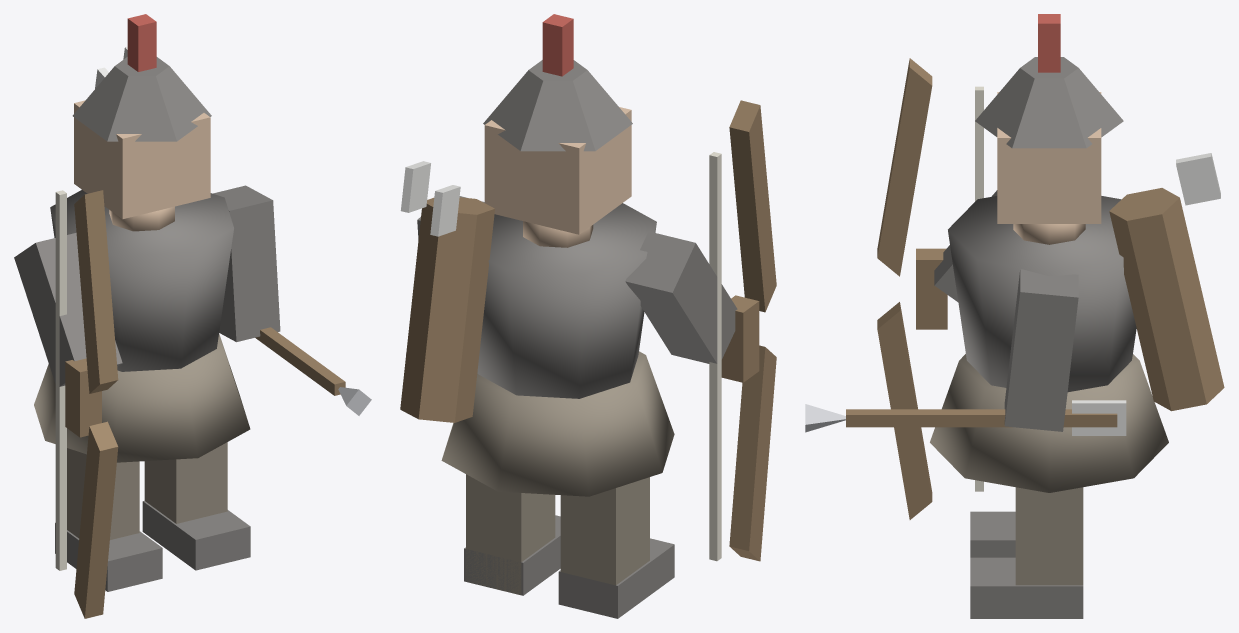
File: troop-archer.glb
3 views of the same model, side by side, from view 1: azimuth 30°, elevation 25°; view 2: azimuth 150°, elevation 25°; view 3: azimuth 270°, elevation 25° (orthographic). The views are drawn at different scales.
Parts seen in each view (by area): view 1: body, skirt, head, helmet, arm_r, bow_limb_u, bow_limb_d, arm_l, leg_r, foot_r, bow_string, leg_l (+6 smaller); view 2: body, skirt, quiver, head, arm_l, helmet, leg_l, leg_r, bow_limb_u, bow_limb_d, bow_string, foot_l (+4 smaller); view 3: body, quiver, skirt, arm_r, helmet, head, leg_r, bow_limb_u, foot_r, bow_limb_d, arrow, bow_grip (+7 smaller).
Part boxes in pixels (left/top/right/bottom): body: left=50, top=190, right=233, bottom=371; skirt: left=34, top=333, right=250, bottom=462; head: left=74, top=100, right=210, bottom=219; helmet: left=72, top=57, right=211, bottom=141; arm_r: left=213, top=185, right=280, bottom=342; bow_limb_u: left=74, top=190, right=118, bottom=393; bow_limb_d: left=74, top=421, right=118, bottom=618; arm_l: left=14, top=233, right=122, bottom=386; leg_r: left=144, top=442, right=227, bottom=523; foot_r: left=142, top=501, right=250, bottom=570; bow_string: left=55, top=190, right=66, bottom=570; leg_l: left=67, top=448, right=139, bottom=539; body: left=477, top=203, right=656, bottom=398; skirt: left=441, top=351, right=674, bottom=496; quiver: left=400, top=161, right=494, bottom=422; head: left=484, top=107, right=631, bottom=234; arm_l: left=625, top=231, right=737, bottom=363; helmet: left=483, top=60, right=632, bottom=151; leg_l: left=560, top=477, right=649, bottom=585; leg_r: left=466, top=474, right=555, bottom=594; bow_limb_u: left=729, top=100, right=776, bottom=312; bow_limb_d: left=729, top=345, right=776, bottom=561; bow_string: left=709, top=152, right=721, bottom=561; foot_l: left=558, top=538, right=674, bottom=618; body: left=948, top=196, right=1136, bottom=392; quiver: left=1109, top=153, right=1224, bottom=411; skirt: left=930, top=354, right=1168, bottom=492; arm_r: left=1004, top=269, right=1078, bottom=431; helmet: left=975, top=57, right=1123, bottom=148; head: left=997, top=92, right=1101, bottom=223; leg_r: left=1015, top=487, right=1083, bottom=585; bow_limb_u: left=877, top=58, right=932, bottom=276; foot_r: left=970, top=557, right=1083, bottom=618; bow_limb_d: left=877, top=302, right=932, bottom=519; arrow: left=846, top=409, right=1117, bottom=427; bow_grip: left=916, top=248, right=947, bottom=329.
Size of the model in its own units: 0.132 by 0.275 by 0.1855.
